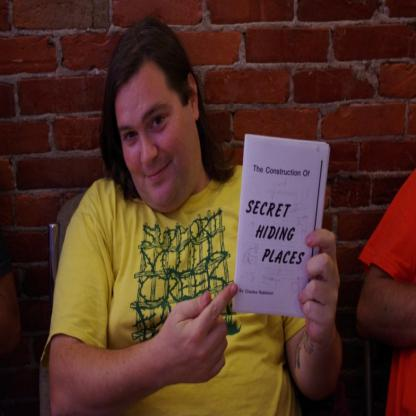book: (235, 134, 330, 322)
